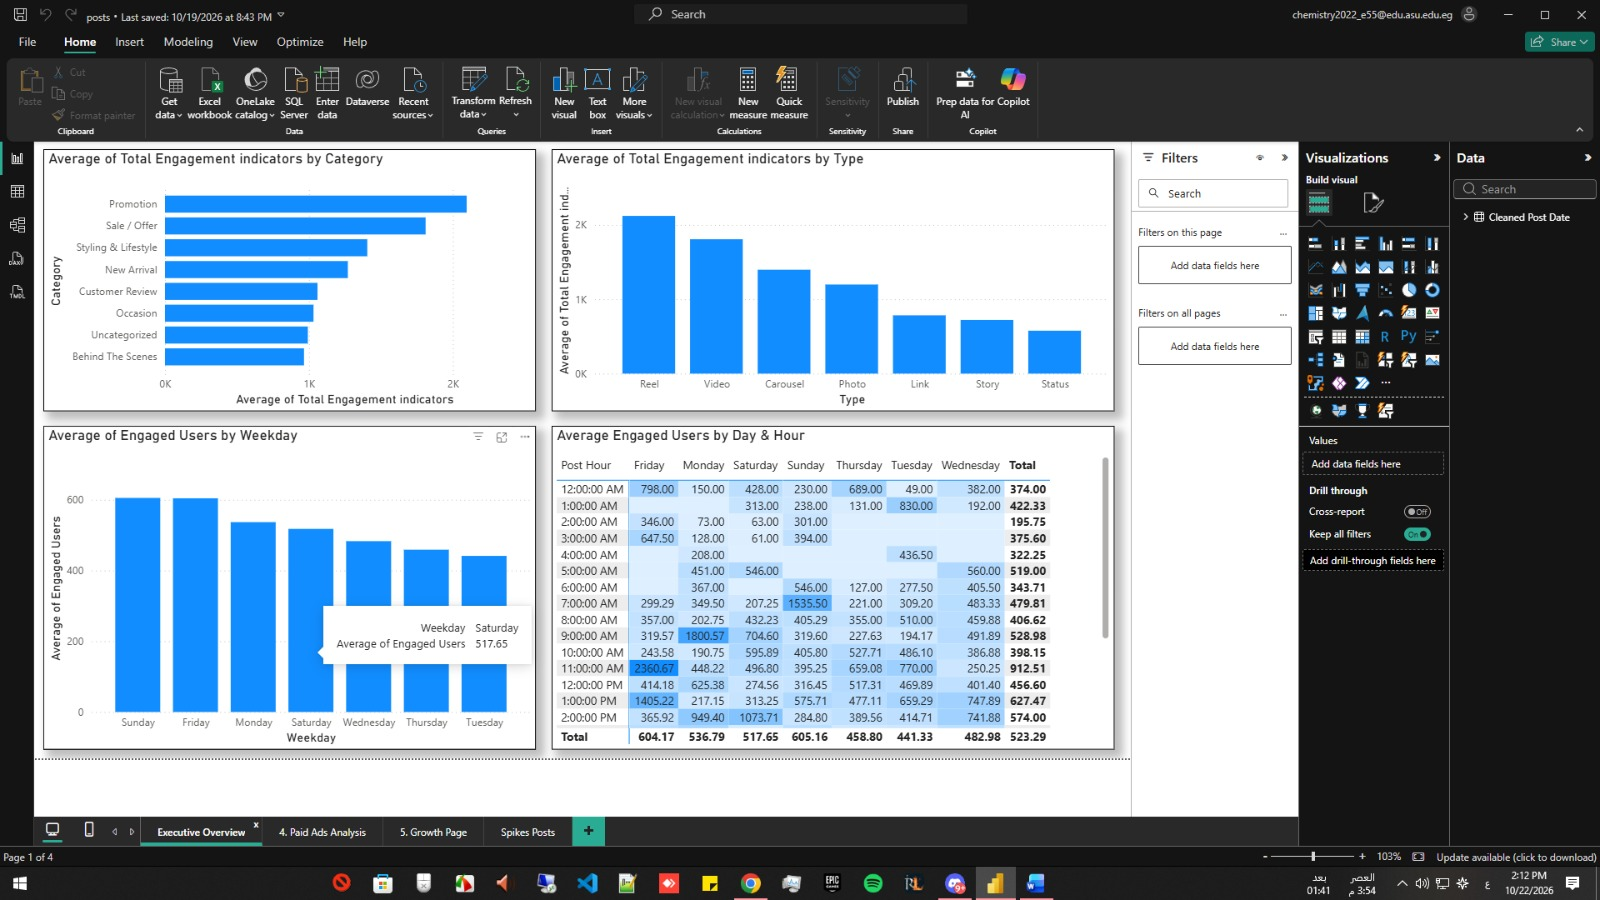

The dashboard page shown, as its layout file describes it:
{"tool":"powerbi","page":{"name":"Executive Overview","canvas":[1280,720],"ordinal":0},"visuals":[{"type":"clusteredColumnChart","fields":{"Category":["Cleaned Post Date.Type"],"Y":["Avg(Cleaned Post Date.Total Engagement indicators)"]},"box":[604,9,657,306],"z":0},{"type":"clusteredBarChart","fields":{"Category":["Cleaned Post Date.Category"],"Y":["Avg(Cleaned Post Date.Total Engagement indicators)"]},"box":[11,9,575,306],"z":1000},{"type":"clusteredColumnChart","fields":{"Category":["Cleaned Post Date.Weekday"],"Y":["Avg(Cleaned Post Date.Engaged Users)"]},"box":[11,332,575,378],"z":2000},{"type":"pivotTable","title":"Average Engaged Users by Day & Hour","fields":{"Columns":["Cleaned Post Date.Weekday"],"Rows":["Cleaned Post Date.Post Hour"],"Values":["Avg(Cleaned Post Date.Engaged Users)"]},"box":[604,332,657,378],"z":3000}]}

Visuals, with their boxes on the page's 1280x720 design canvas (x1, y1, x2, y2). These are canvas units, not pixel positions in the 1600x900 screenshot, which may show the page scaled, cropped or inside an application window:
clusteredColumnChart - Cleaned Post Date.Type x Avg(Cleaned Post Date.Total Engagement indicators): x1=604 y1=9 x2=1261 y2=315
clusteredBarChart - Cleaned Post Date.Category x Avg(Cleaned Post Date.Total Engagement indicators): x1=11 y1=9 x2=586 y2=315
clusteredColumnChart - Cleaned Post Date.Weekday x Avg(Cleaned Post Date.Engaged Users): x1=11 y1=332 x2=586 y2=710
"Average Engaged Users by Day & Hour" pivotTable: x1=604 y1=332 x2=1261 y2=710
